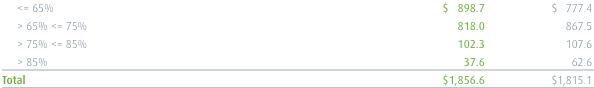table: (0, 0, 591, 85)
table column: (0, 0, 263, 85), (263, 0, 517, 85), (517, 0, 591, 85)
table column header: (0, 0, 591, 16)
table row: (0, 16, 591, 34), (0, 34, 591, 52), (0, 52, 591, 69), (0, 0, 591, 16), (0, 69, 591, 85)
